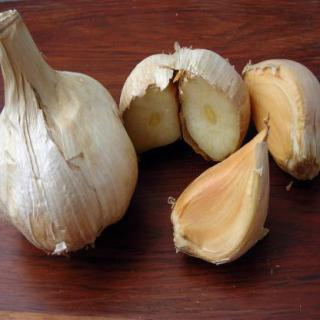Bawang Putih: (1, 60, 144, 263), (172, 136, 272, 266)
